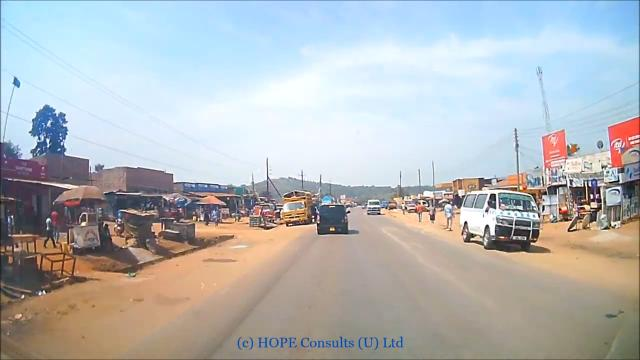truck: (277, 190, 314, 228), (381, 201, 388, 209)
van: (457, 193, 540, 244), (316, 203, 350, 235), (366, 199, 381, 215), (406, 203, 416, 213), (387, 202, 396, 210)
